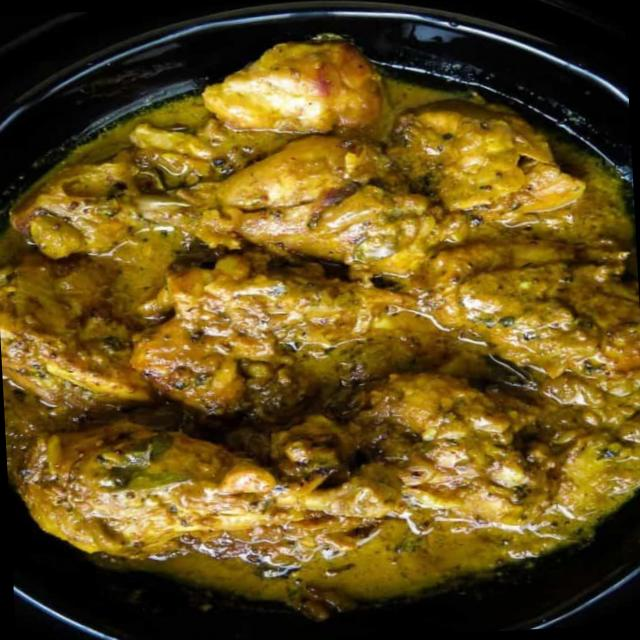chicken: (0, 24, 640, 637)
